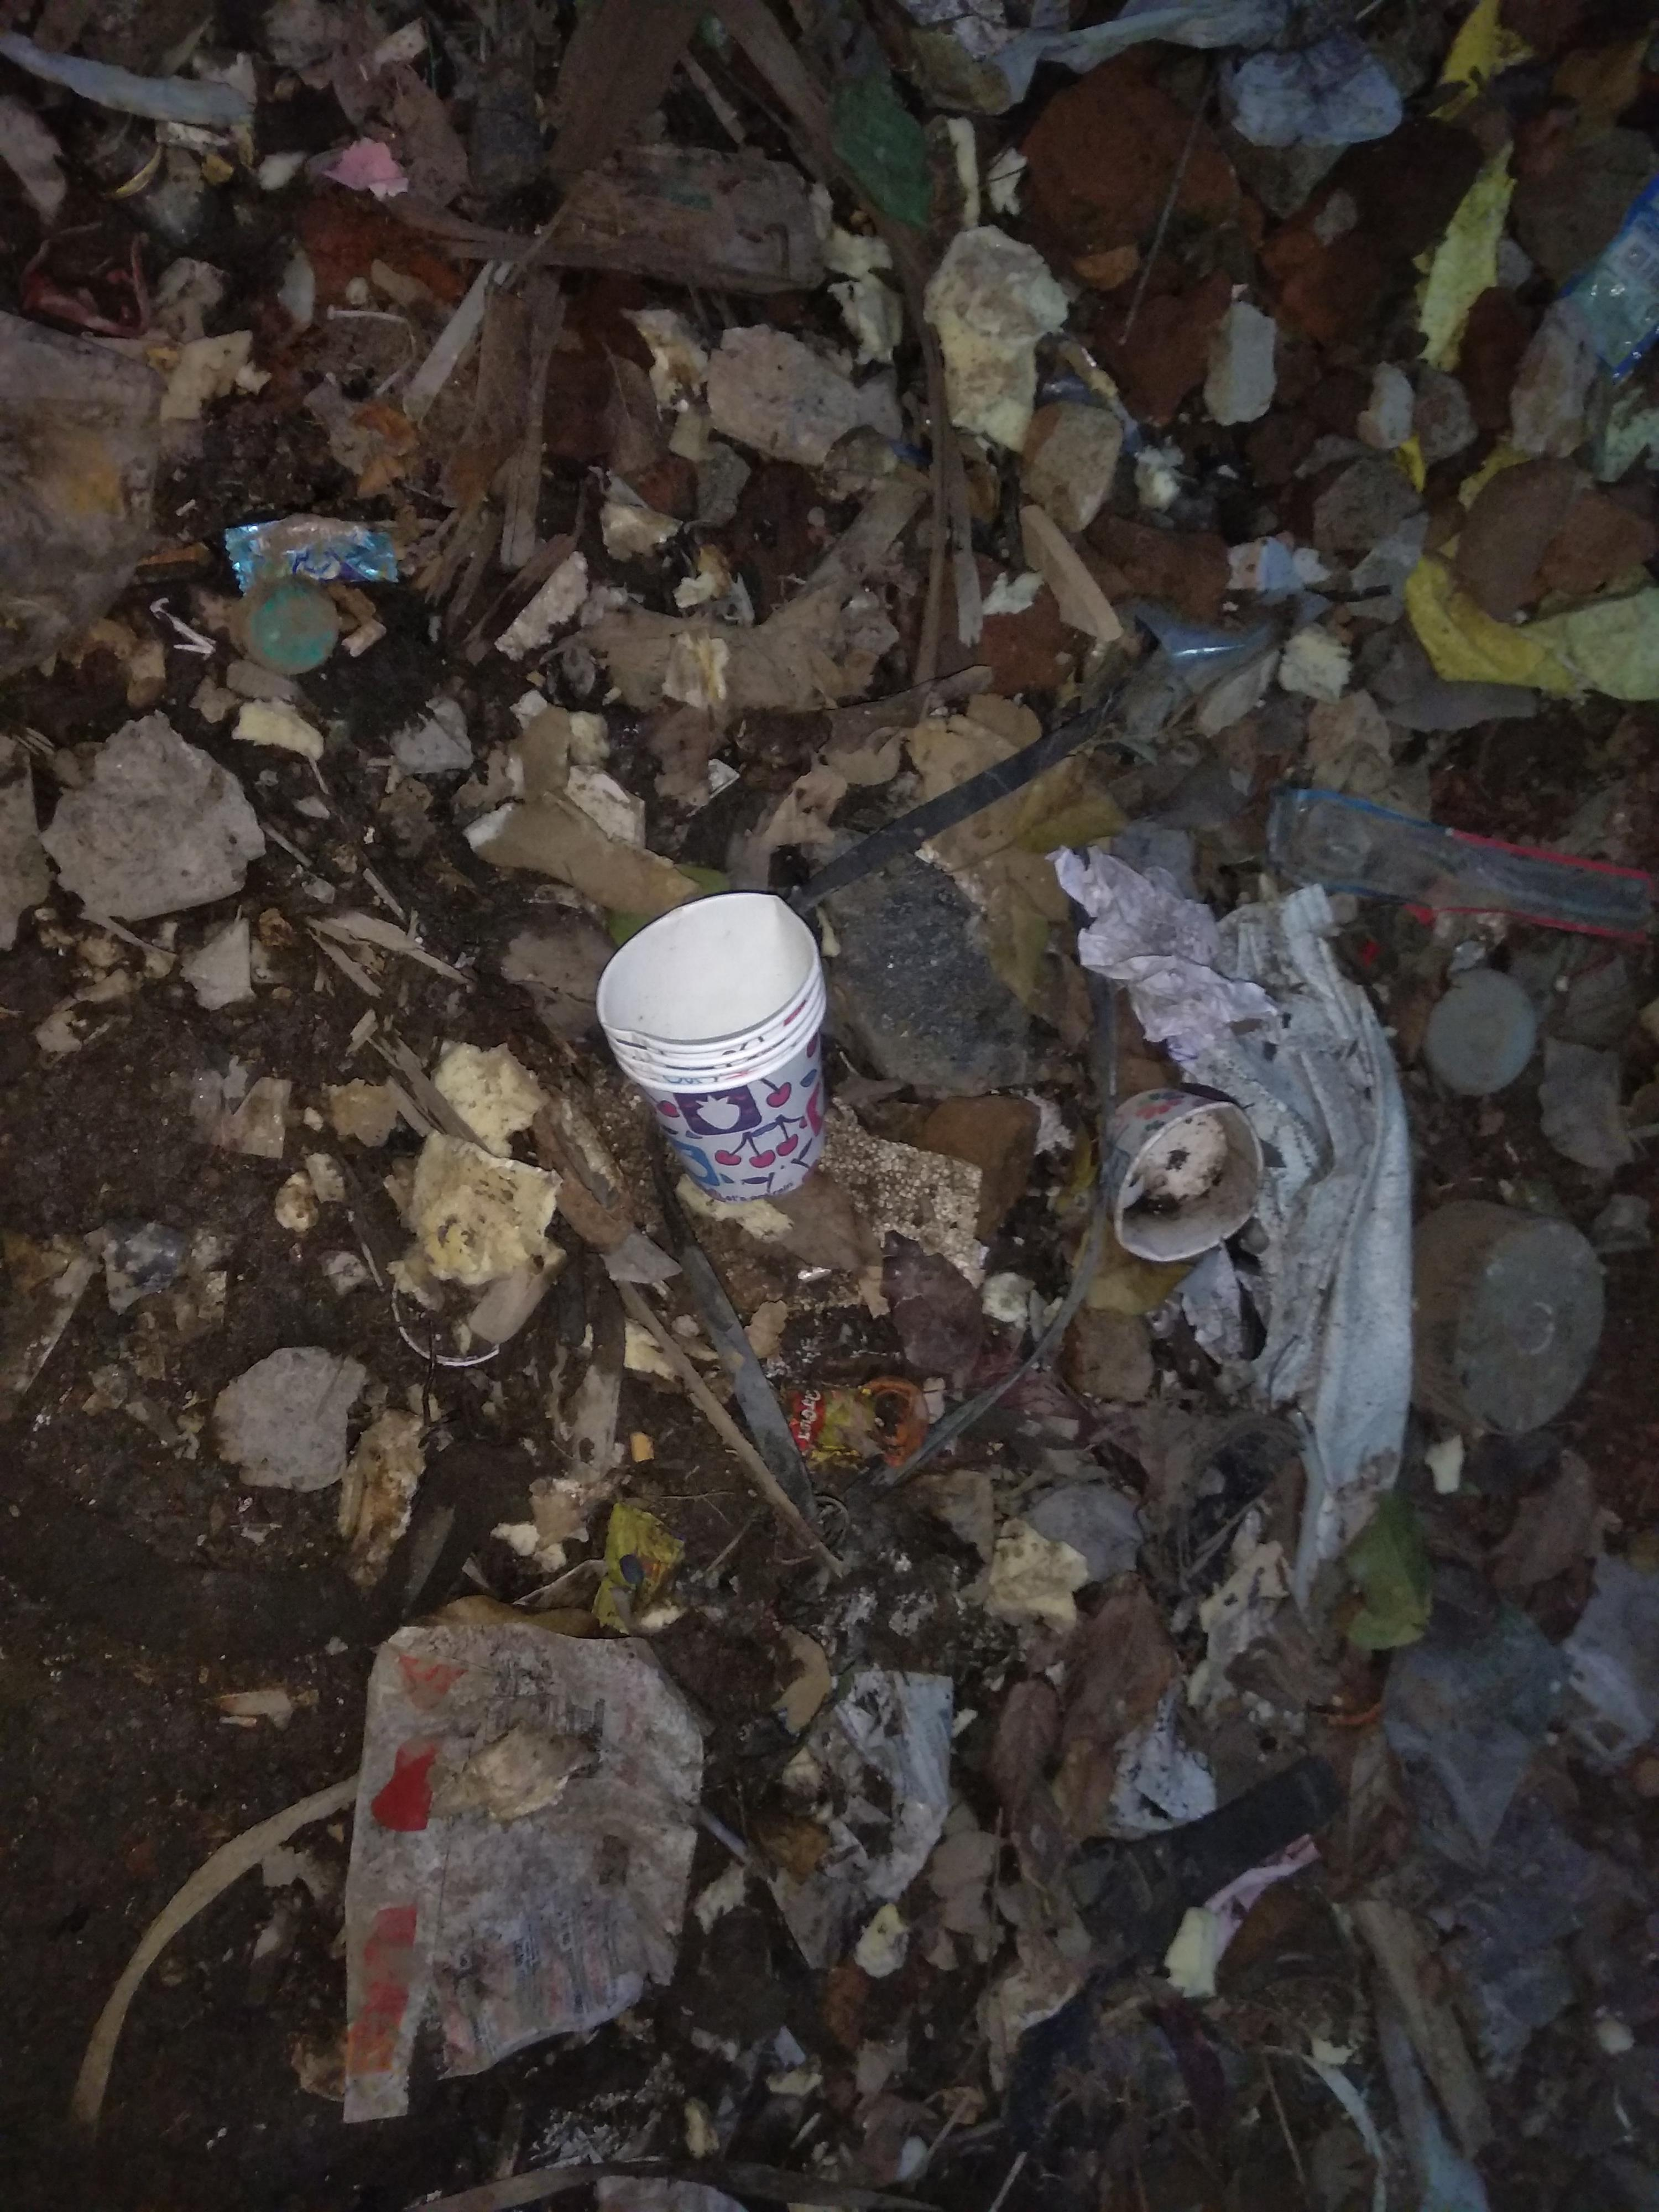trash: (171, 150, 1659, 2207)
